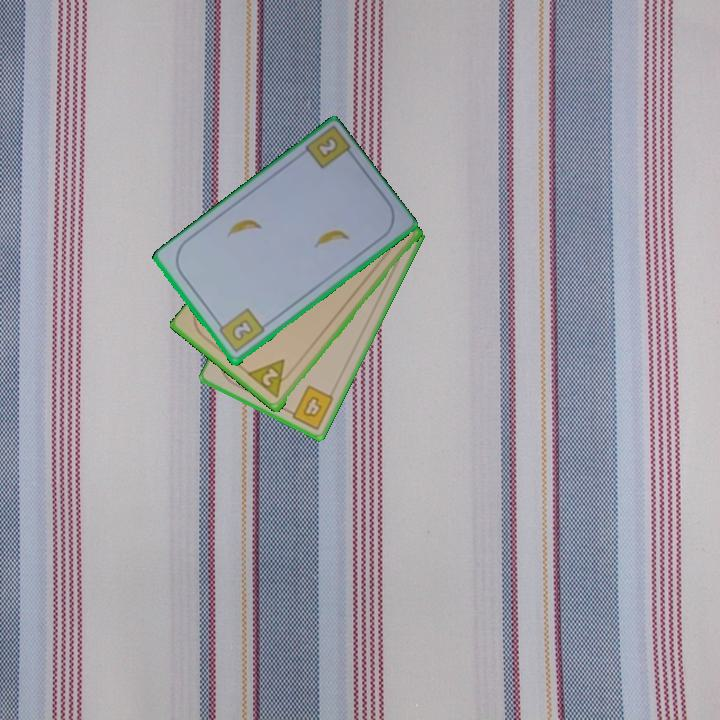2b: (213, 305, 267, 356), (312, 133, 341, 161)
2p: (245, 356, 297, 401)
4b: (283, 382, 337, 433)
